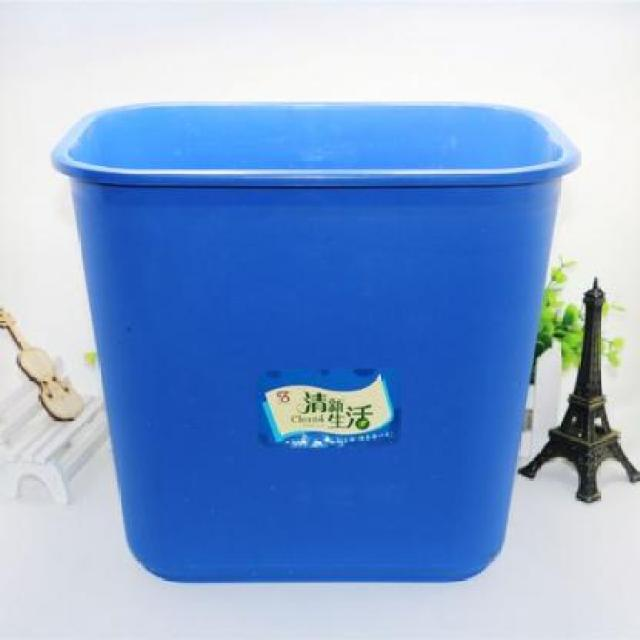dustbin: (48, 93, 588, 592)
